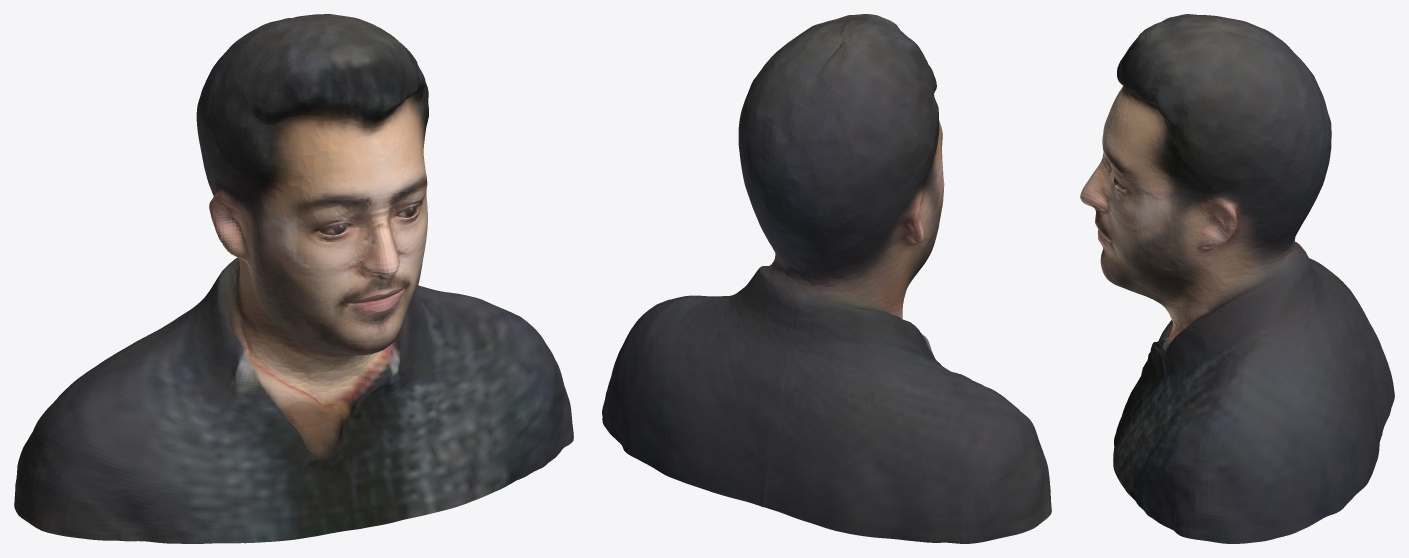
3 views of the same model, side by side, from view 1: azimuth 30°, elevation 25°; view 2: azimuth 150°, elevation 25°; view 3: azimuth 270°, elevation 25° (orthographic). The views are drawn at different scales.
Visible parts, largest first — view 1: Node; view 2: Node; view 3: Node.
Part boxes in pixels (x1,y1,x2,y2): Node: (14, 14, 573, 543); Node: (602, 14, 1051, 543); Node: (1080, 14, 1394, 543).
Bounding box in the file's own units: 0.4655 × 0.4072 × 0.2824.
Materials: 1 (1 with a texture image).
